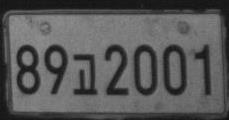0: (161, 43, 187, 95), (133, 44, 158, 96)
1: (193, 44, 218, 95)
2: (103, 43, 129, 95)
8: (15, 43, 41, 95)
9: (43, 43, 68, 95)
고: (72, 53, 97, 95)
